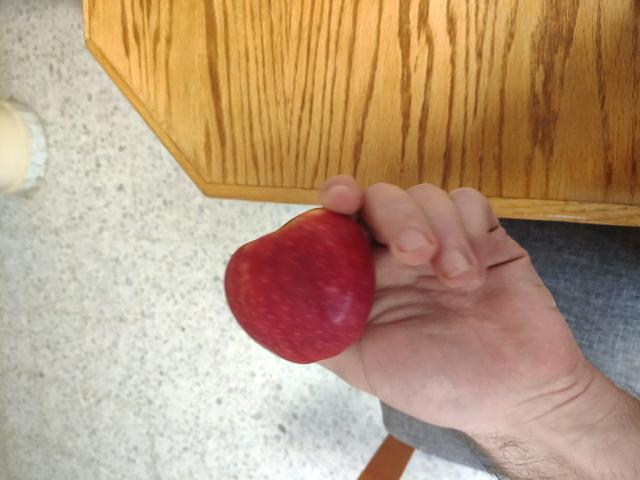apple: (214, 212, 375, 360)
